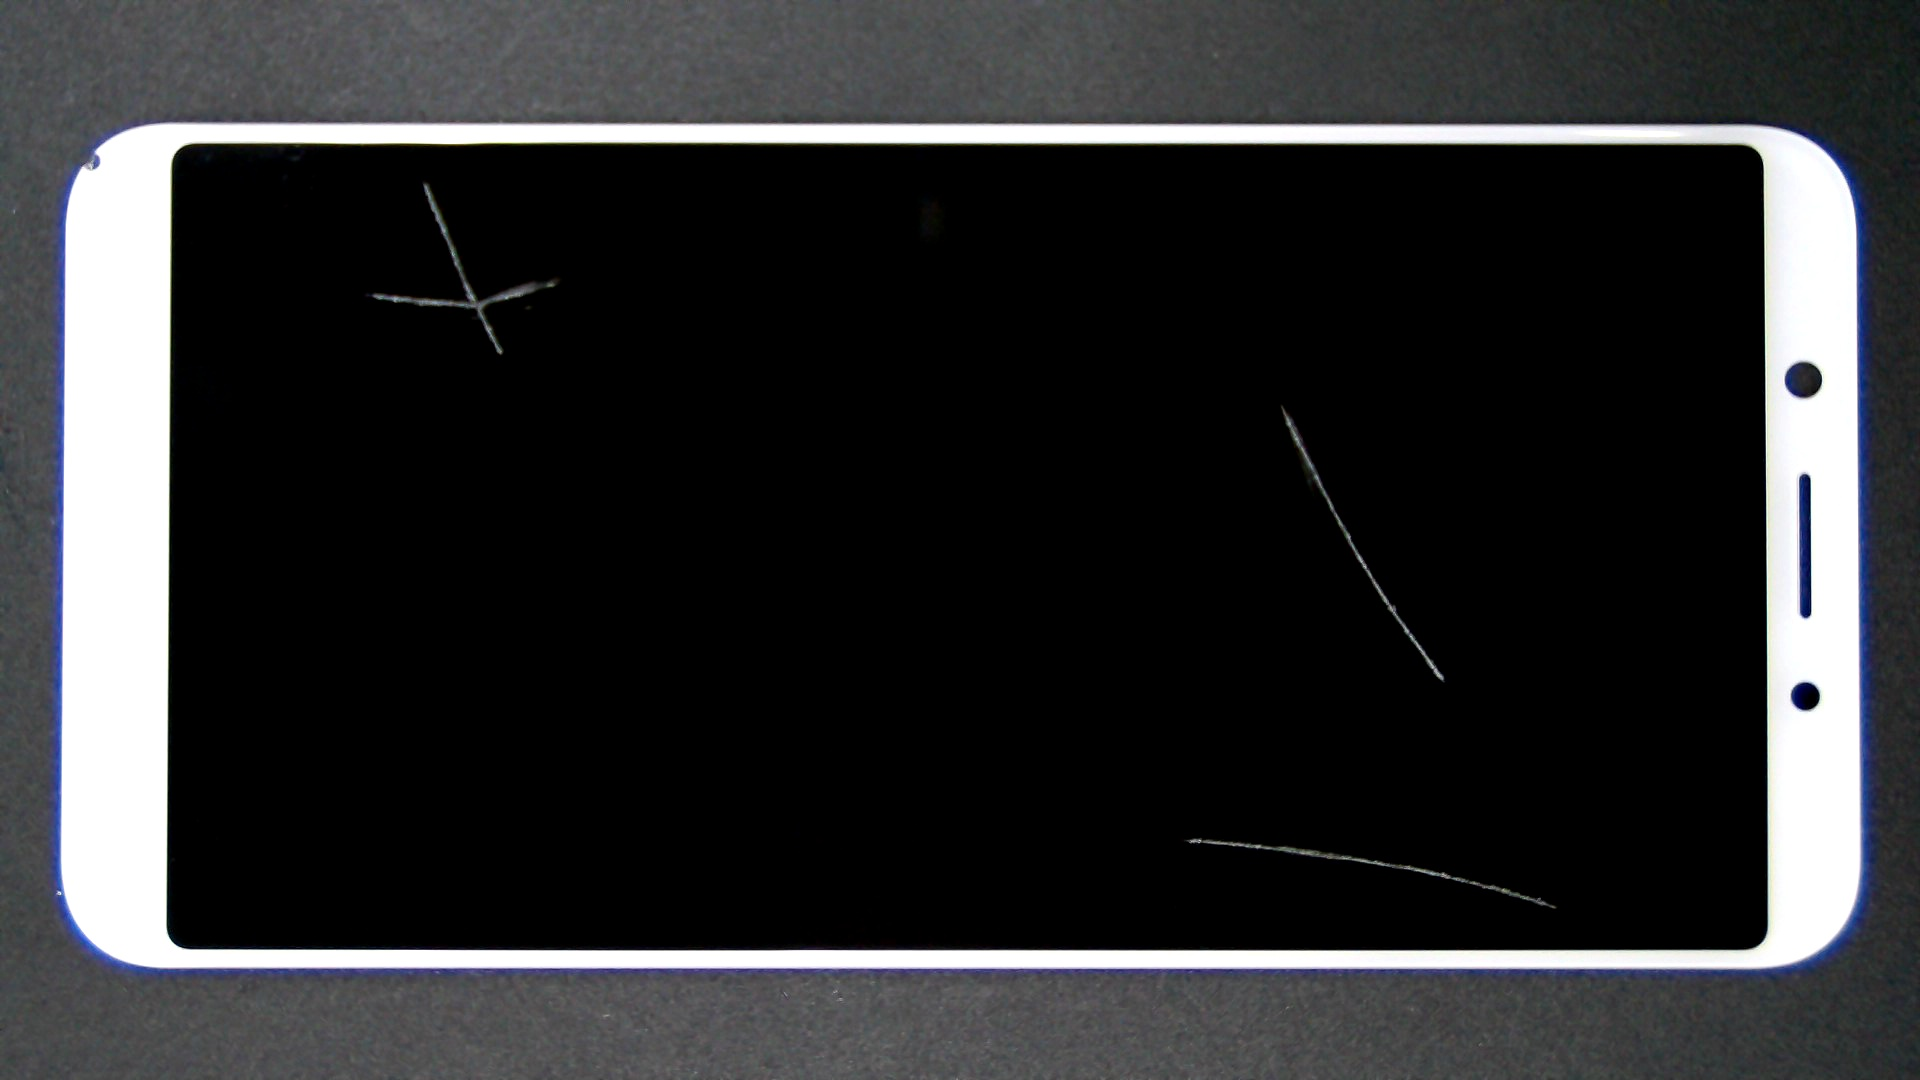oil: (599, 418, 1795, 1080), (640, 199, 1920, 607), (211, 90, 634, 272)
